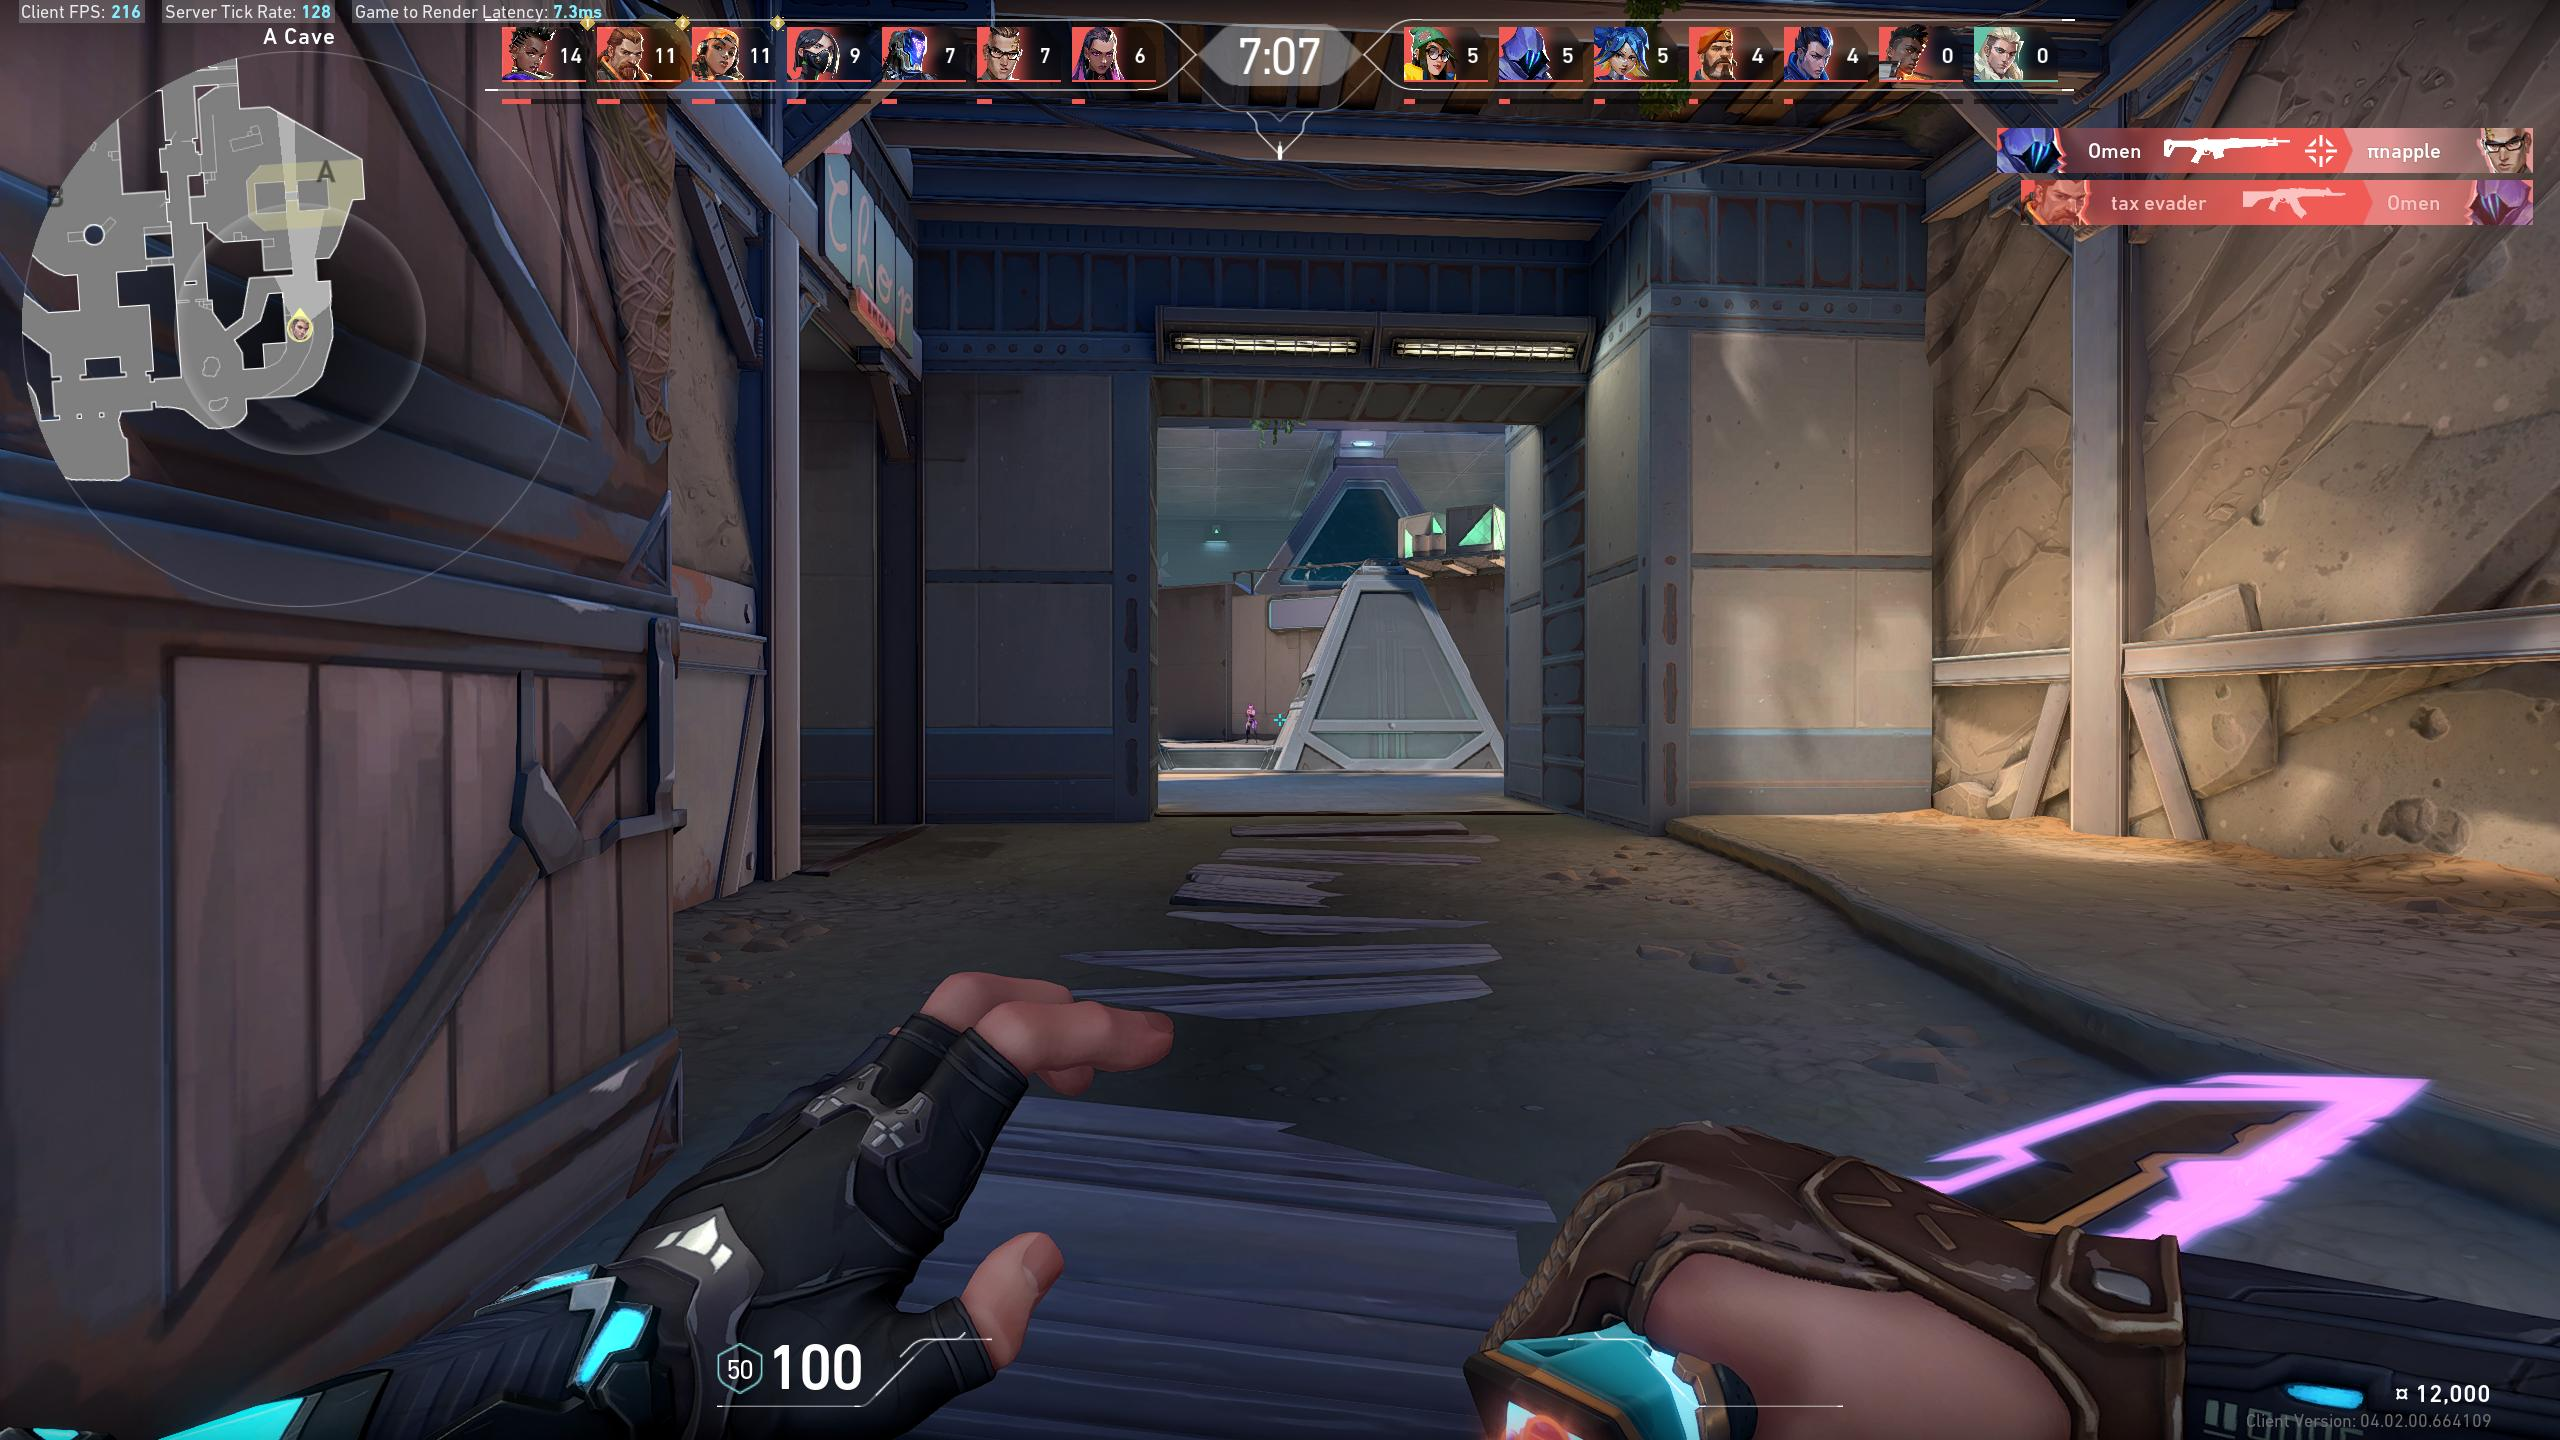enemyBody: (1248, 710, 1254, 719)
enemyHead: (1248, 705, 1252, 710)
